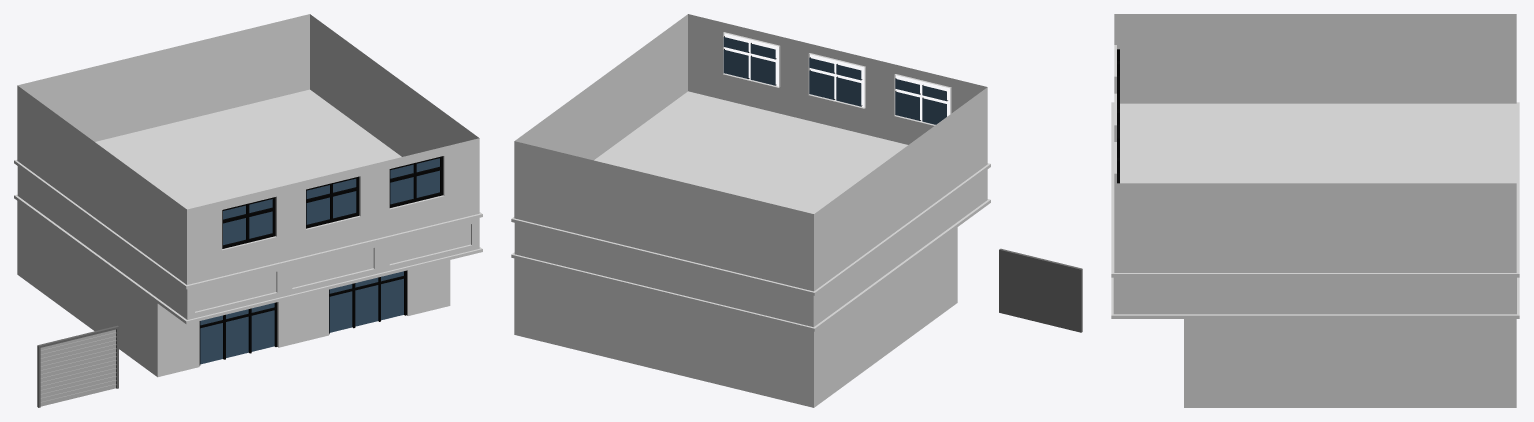
Rendered from Unit2.fbx.
3 renders of one model, left to right at view 1: azimuth 30°, elevation 25°; view 2: azimuth 150°, elevation 25°; view 3: azimuth 270°, elevation 25°, orthographic. The views are drawn at different scales.
Parts seen in each view (by area): view 1: Unit2_Floor_Main, Unit2_Floor_Border, Unit2_Base_Main, Unit2_Base_Windows, Unit2_Base_Door, Unit2_Floor_Windows, Unit2_Floor_Frame, Unit2_Base_Frame, Unit2_Base_DoorFrame; view 2: Unit2_Floor_Main, Unit2_Floor_Border, Unit2_Base_Main, Unit2_Base_DoorFrame, Unit2_Floor_Windows; view 3: Unit2_Floor_Main, Unit2_Floor_Border, Unit2_Base_Main, Unit2_Floor_Frame.
Boxes of the visible parts, bbox=[...] form: Unit2_Floor_Main: bbox=[17, 14, 479, 284]; Unit2_Floor_Border: bbox=[14, 89, 482, 324]; Unit2_Base_Main: bbox=[17, 201, 450, 377]; Unit2_Base_Windows: bbox=[200, 271, 403, 364]; Unit2_Base_Door: bbox=[40, 329, 116, 406]; Unit2_Floor_Windows: bbox=[223, 158, 439, 245]; Unit2_Floor_Frame: bbox=[222, 156, 443, 248]; Unit2_Base_Frame: bbox=[199, 270, 406, 365]; Unit2_Base_DoorFrame: bbox=[37, 325, 118, 407]; Unit2_Floor_Main: bbox=[514, 14, 987, 291]; Unit2_Floor_Border: bbox=[511, 91, 990, 331]; Unit2_Base_Main: bbox=[514, 227, 957, 407]; Unit2_Base_DoorFrame: bbox=[999, 248, 1082, 332]; Unit2_Floor_Windows: bbox=[723, 37, 946, 124]; Unit2_Floor_Main: bbox=[1114, 14, 1516, 272]; Unit2_Floor_Border: bbox=[1111, 102, 1519, 318]; Unit2_Base_Main: bbox=[1184, 319, 1516, 407]; Unit2_Floor_Frame: bbox=[1117, 49, 1119, 183].
Bounding box in the file's own units: 1964 × 856 × 1411.
